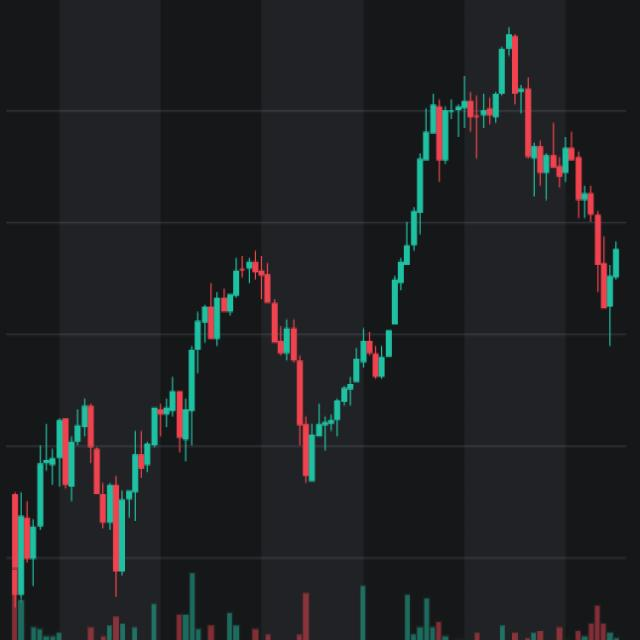Channel-up: (5, 0, 620, 629)
Head-Shoulders: (372, 24, 624, 324)
